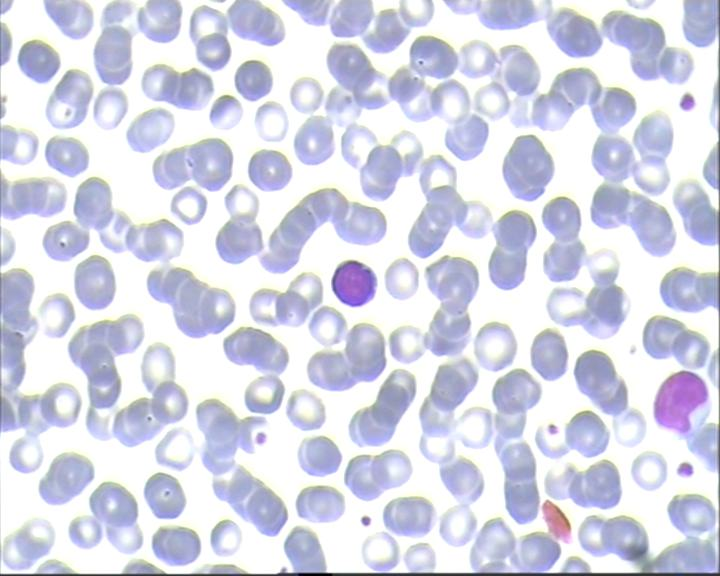lymp: (649, 366, 715, 439), (327, 255, 383, 307)
